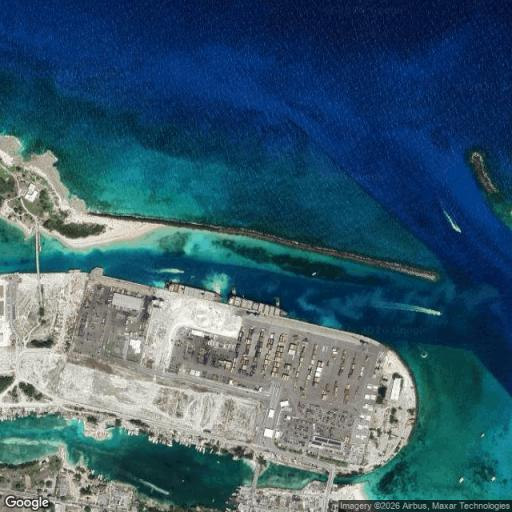ship: (363, 297, 450, 321), (162, 277, 224, 303), (226, 296, 289, 317), (207, 447, 218, 459), (201, 446, 208, 458), (229, 492, 242, 498), (221, 505, 233, 510), (192, 444, 200, 451), (199, 445, 205, 454), (195, 445, 201, 454)
